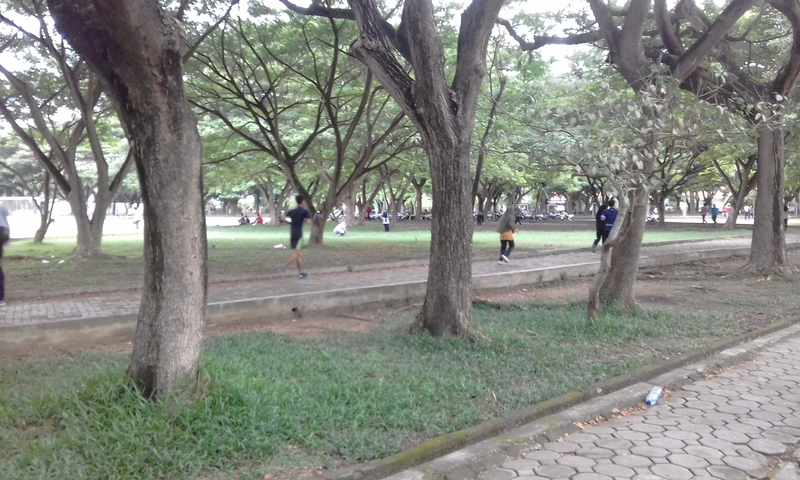person: (274, 192, 315, 283), (495, 204, 523, 267), (602, 197, 619, 254)
